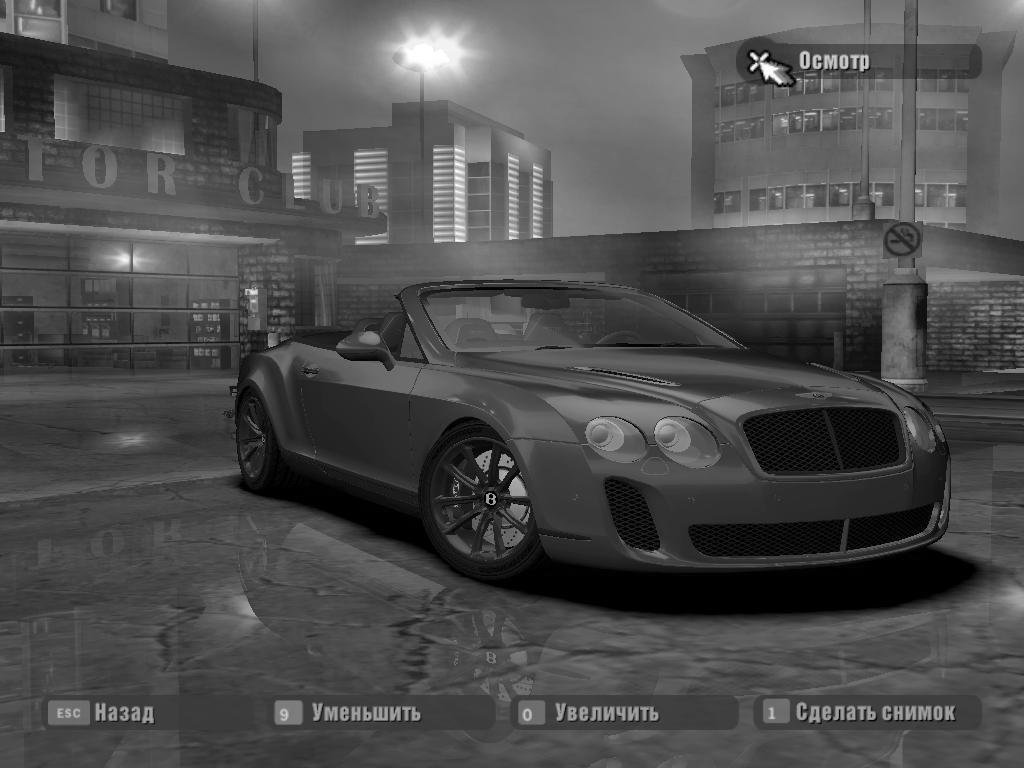car: (229, 281, 953, 575)
